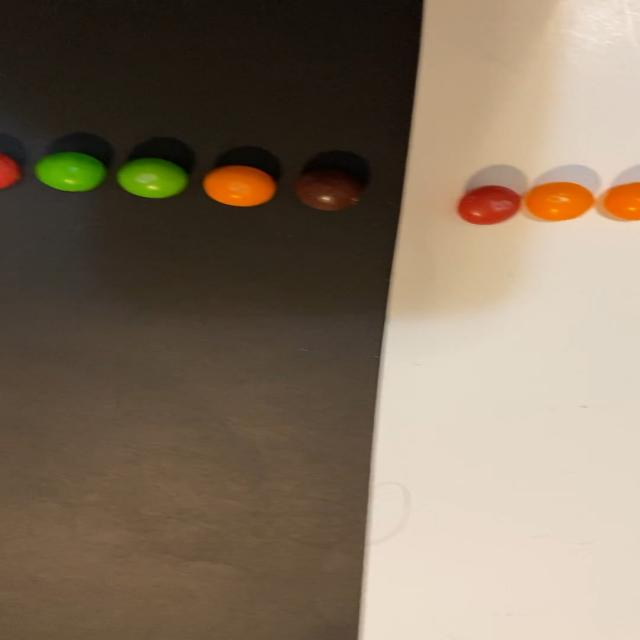smartie: (202, 165, 276, 206), (116, 157, 187, 198), (33, 151, 104, 191), (526, 182, 594, 220), (295, 172, 360, 210), (457, 185, 520, 224), (604, 181, 640, 220)
